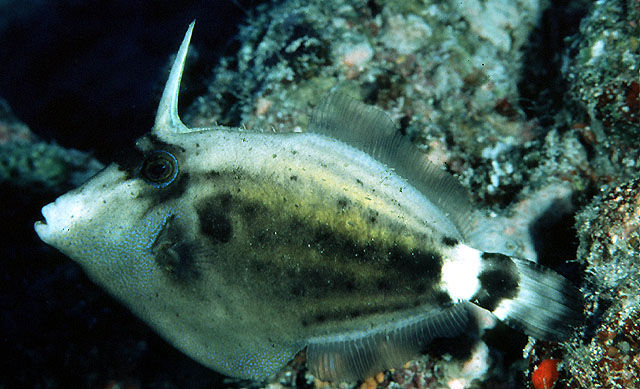fish: (32, 20, 579, 379)
